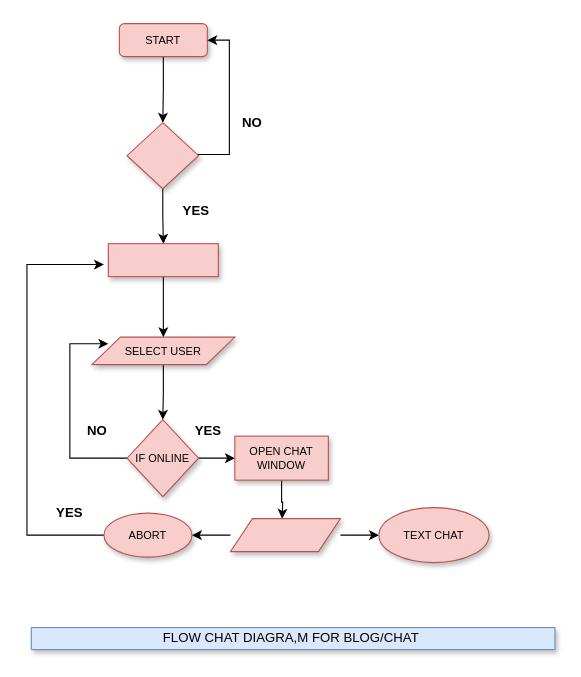
Image size: 581x677. Some labels were removed from this diagram. The shapes that lost their labels are listed below. From the top down, each one's centre as x and y in pixels, then its label:
point (163, 156): LOGIN
point (164, 261): DASHBORD
point (286, 536): SELECT PROCESS
